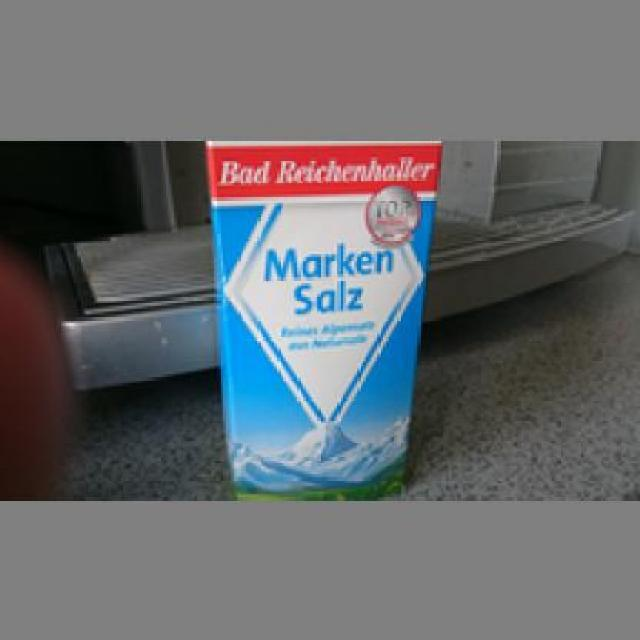Spices: (203, 137, 440, 494)
